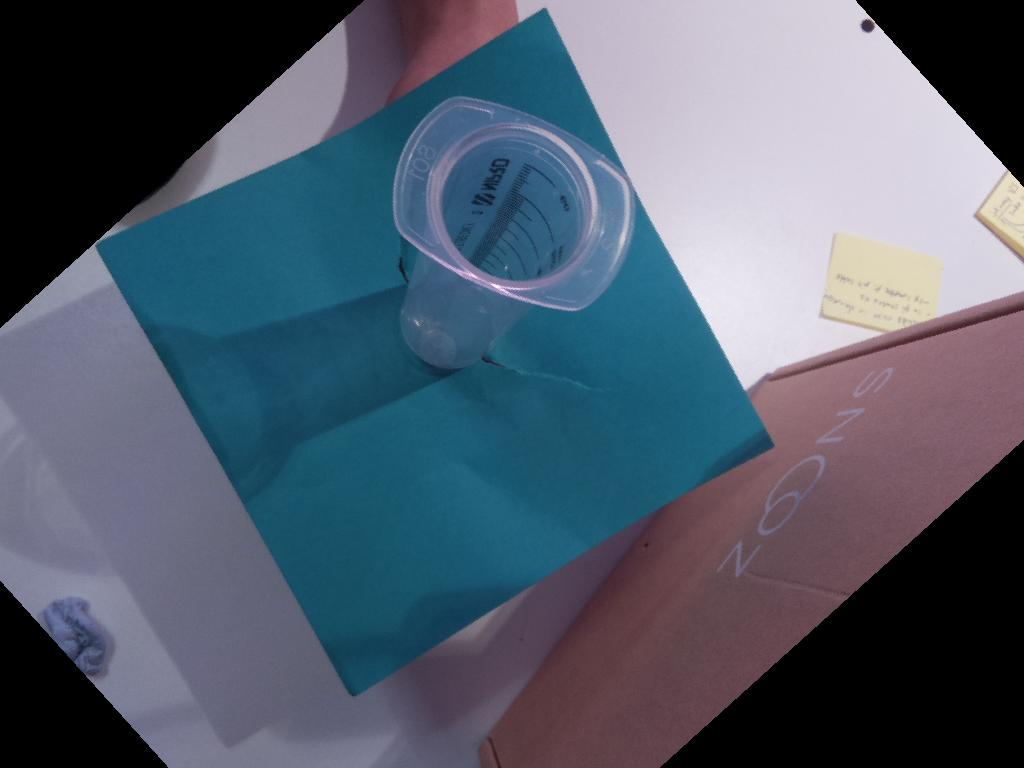clean: (390, 95, 638, 314)
